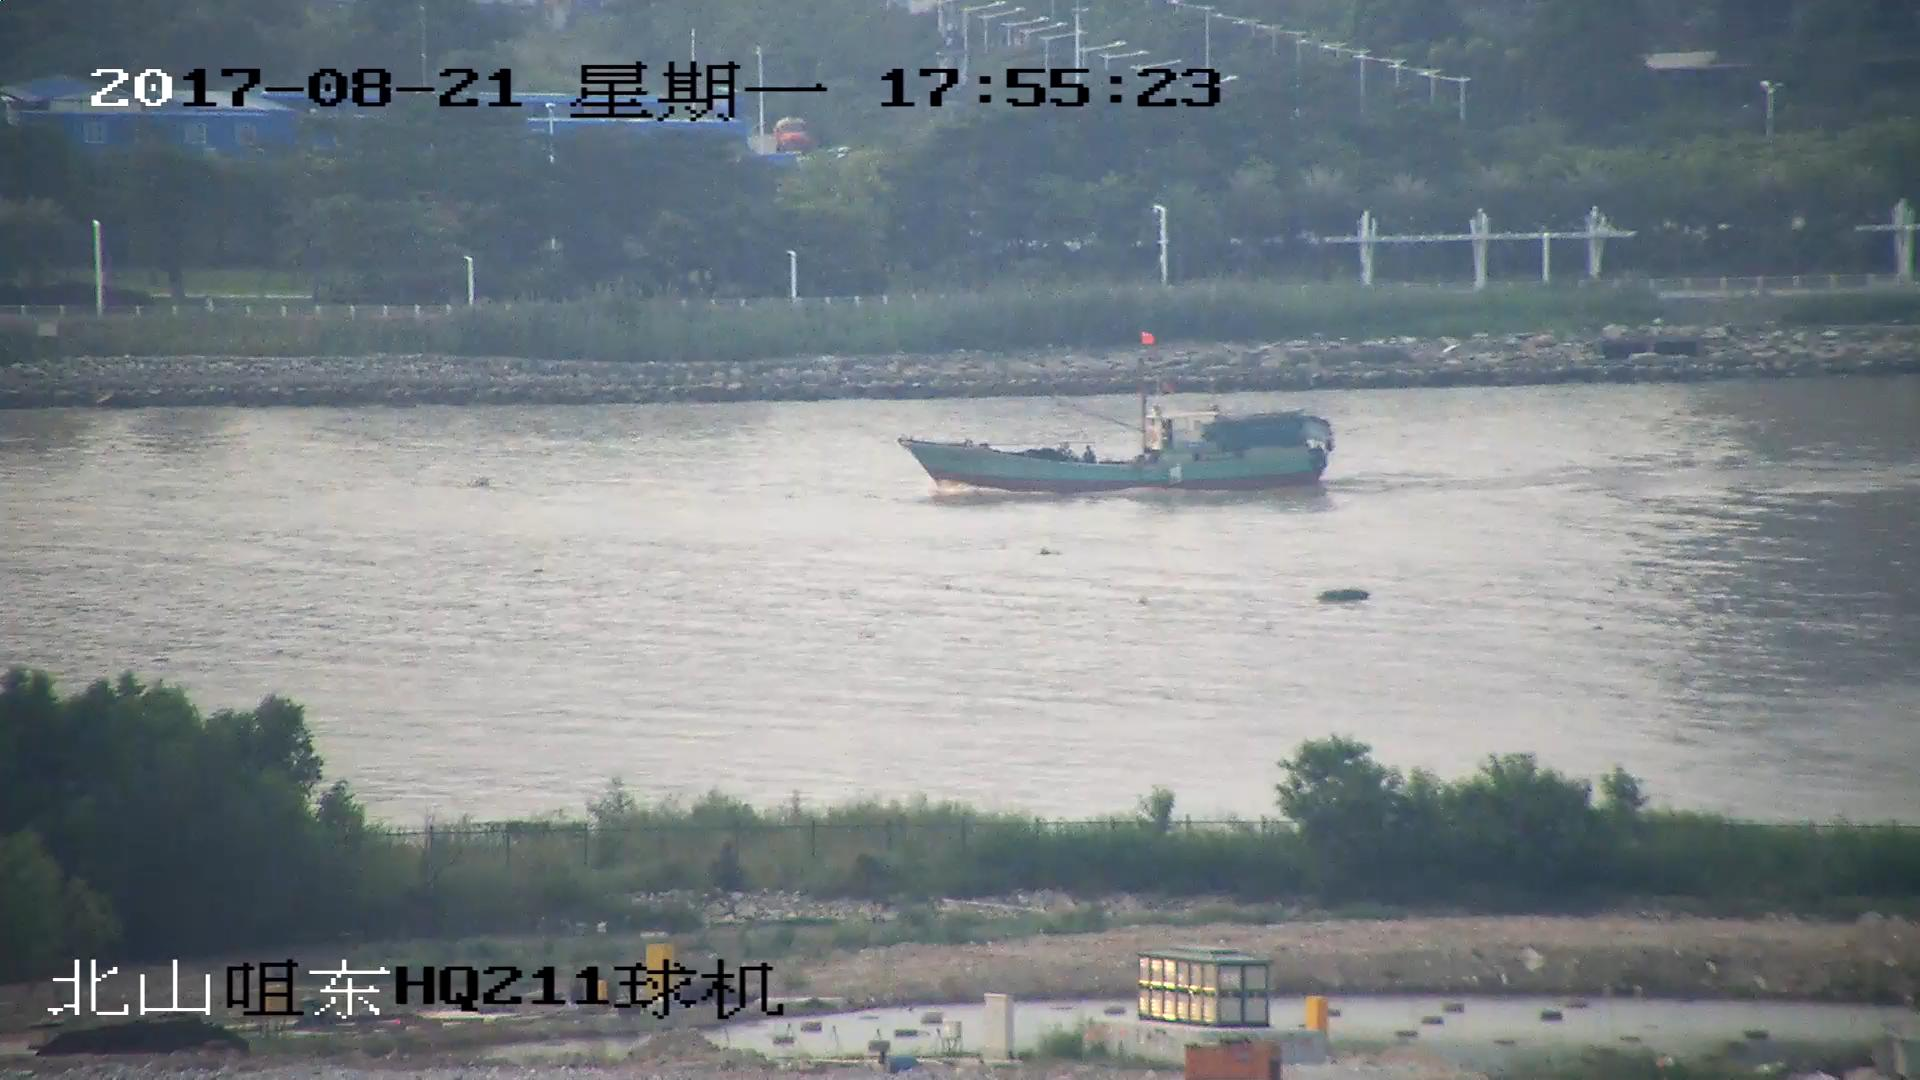fishing boat: (911, 334, 1335, 496)
